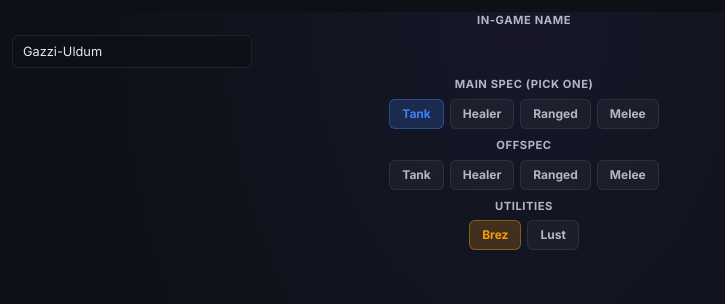
RoleEditor name lookup › asks for a retry instead of blaming the name when the lookup fails
Replace the text in the field with placeholder "PlayerName-ServerName" with "Gazzi-Stormrage" at coordinates (132, 51), box [12,35,252,68]
Wait 800 ms
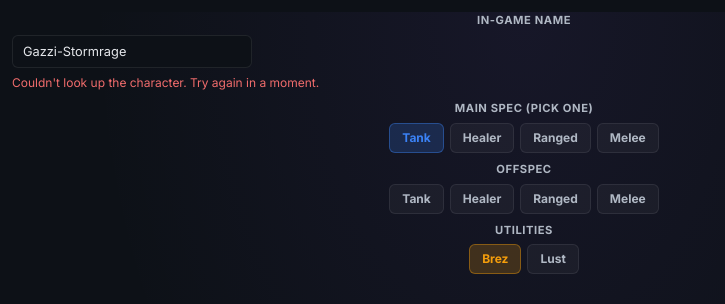
Now the message reads "Couldn't look up the character. Try again in a moment.", box [12,75,319,90]
